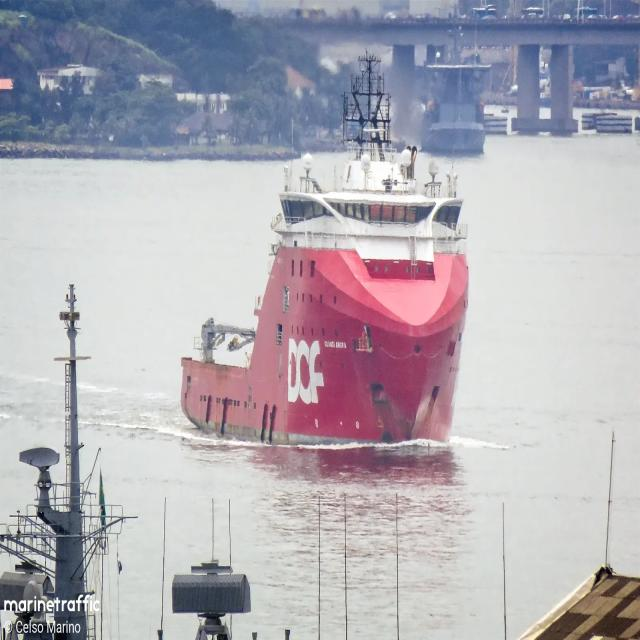Offshore: (182, 55, 468, 443)
